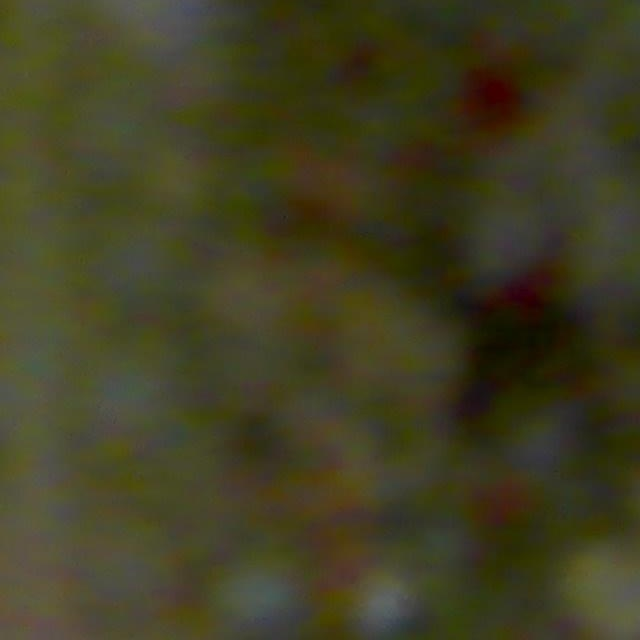SeaGrape: (93, 204, 198, 304), (211, 544, 310, 636), (111, 336, 193, 445), (563, 542, 640, 639)
